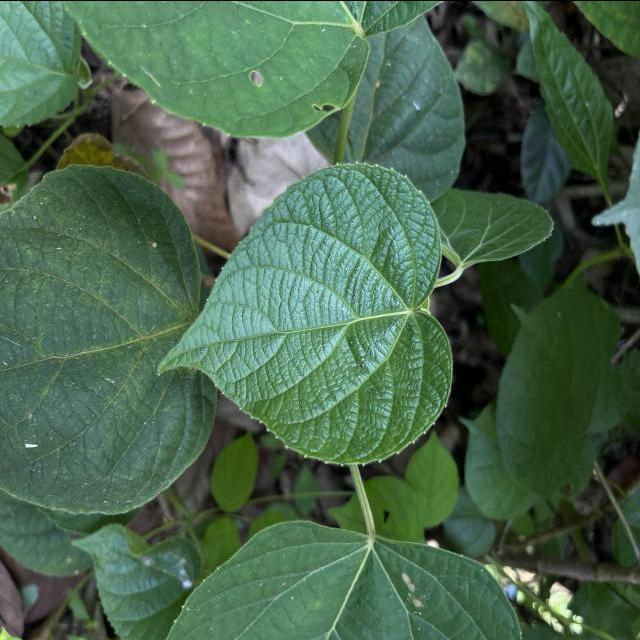Clerodendrum infortunatum: (157, 158, 456, 467)
